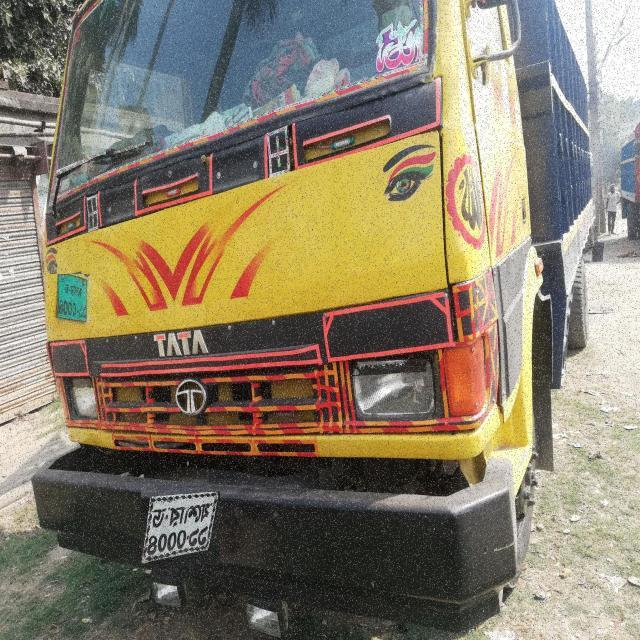numberplate: (141, 490, 220, 564), (48, 274, 92, 325)
